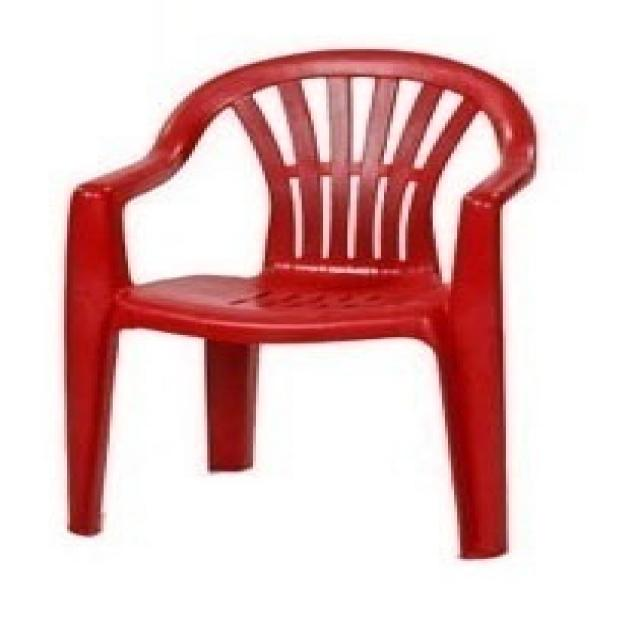Chair: (61, 49, 545, 563)
